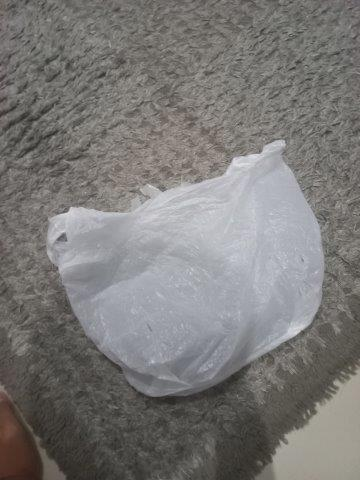plastik: (44, 138, 323, 400)
